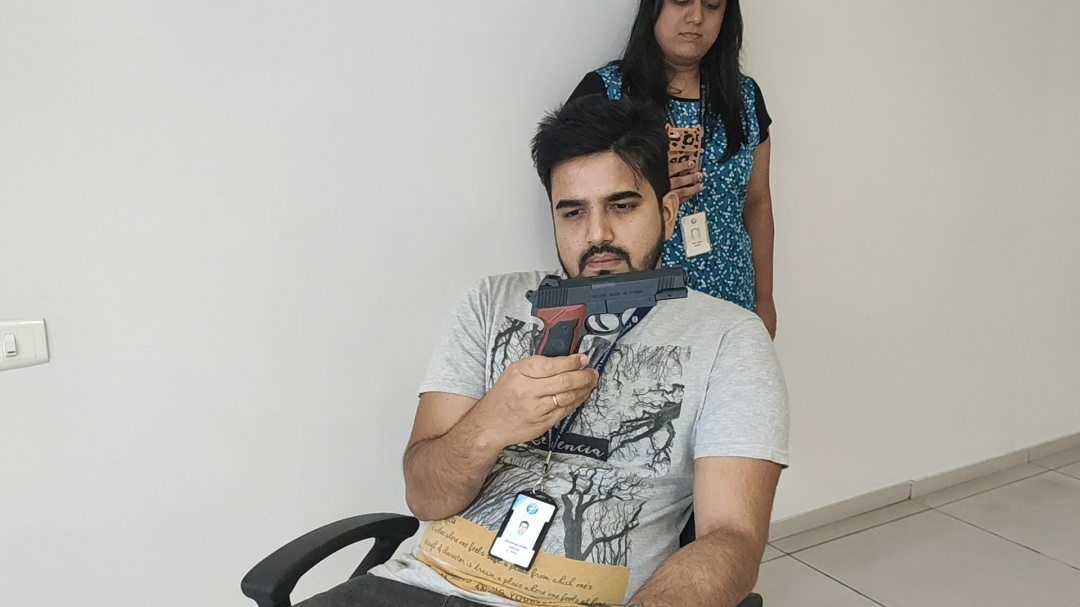gun: (526, 264, 689, 352)
